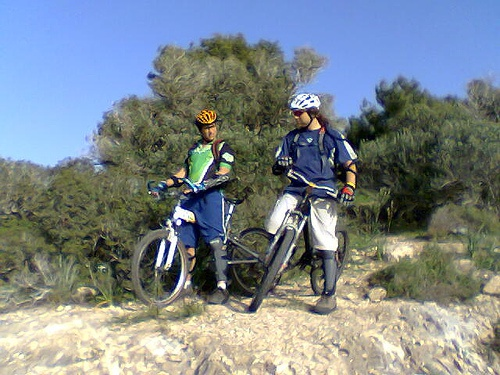non-vehicle: (131, 179, 274, 304), (247, 171, 352, 313)
